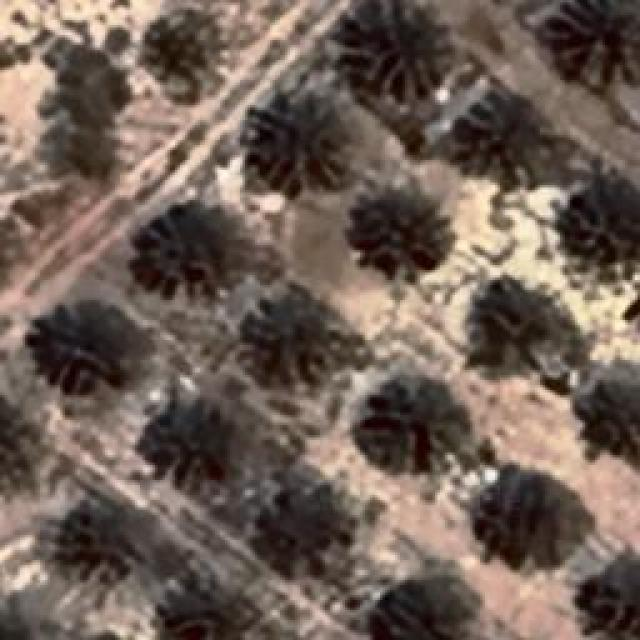PalmTree: (71, 71, 198, 616), (245, 82, 368, 196), (350, 374, 472, 478), (472, 267, 566, 375), (348, 2, 450, 100), (28, 300, 132, 388), (454, 98, 544, 188), (544, 0, 638, 85), (255, 481, 340, 574), (239, 291, 329, 374), (138, 198, 224, 284), (500, 472, 578, 566), (575, 172, 640, 280), (349, 204, 439, 272), (146, 407, 229, 475), (382, 580, 472, 640), (45, 510, 110, 582), (580, 372, 640, 442), (592, 567, 639, 640), (0, 385, 32, 492), (80, 48, 184, 71), (0, 386, 21, 492), (0, 596, 41, 640)
